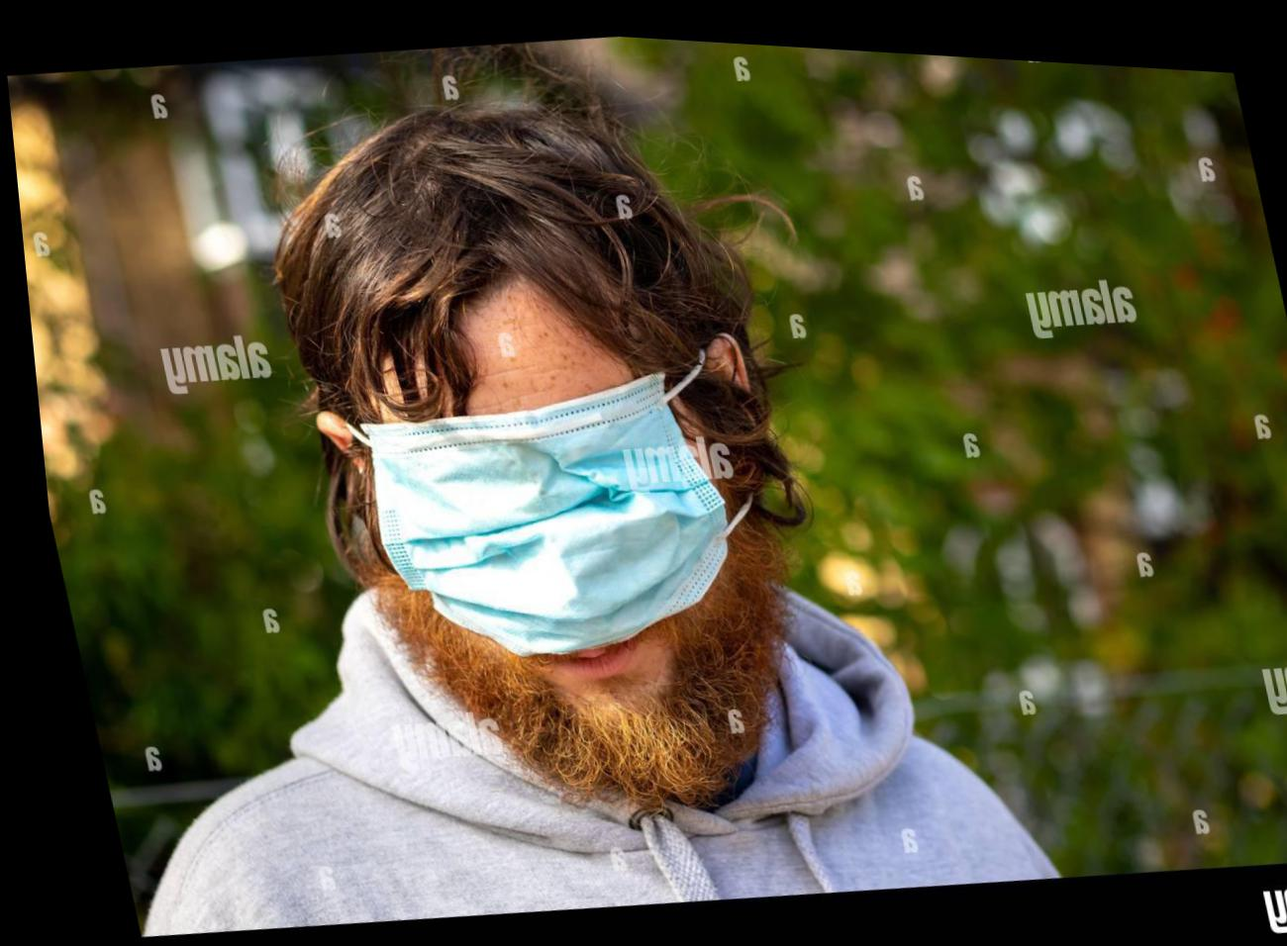WRONG: (334, 301, 763, 765)
